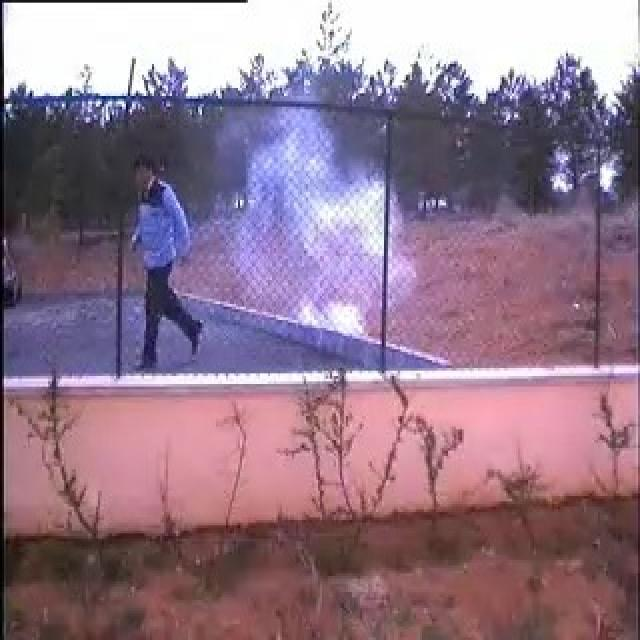smoke: (242, 120, 384, 321)
